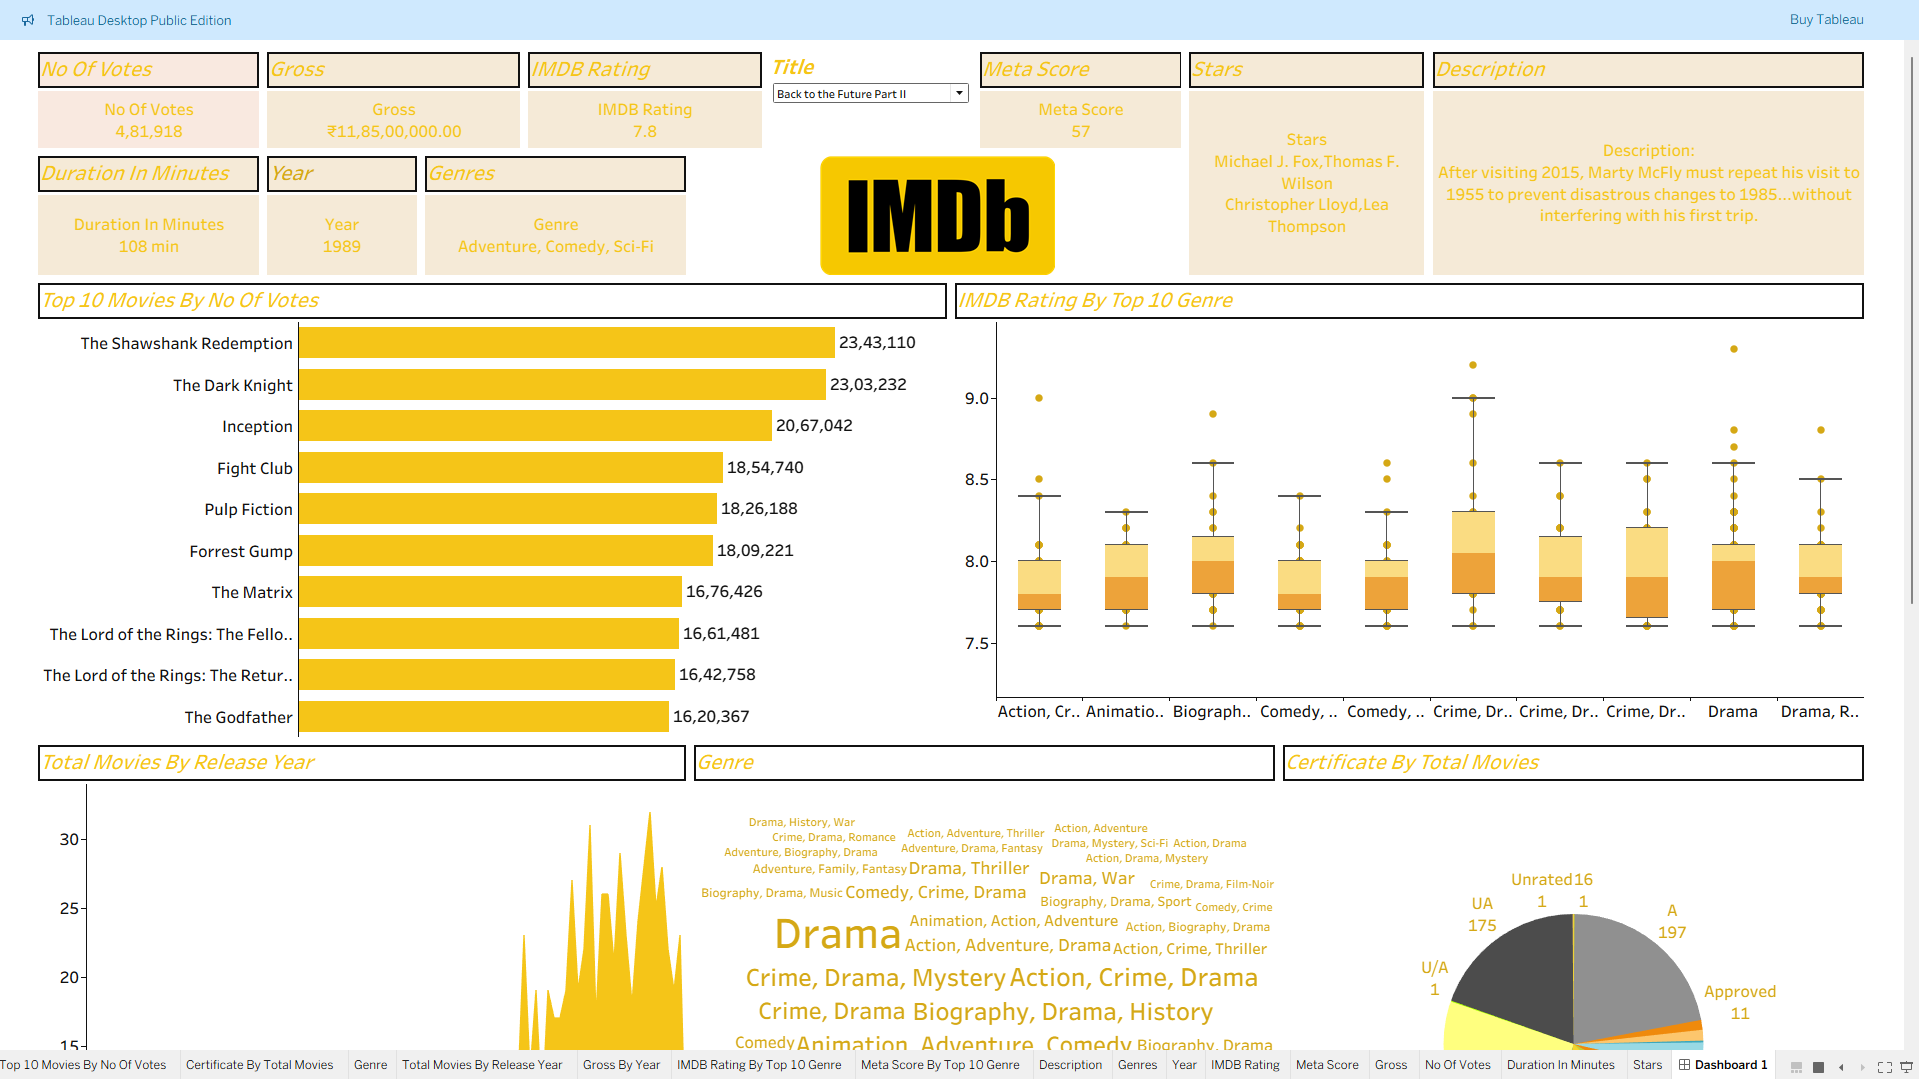

This screenshot's page, from the dashboard's own definition file:
{"tool":"tableau","page":{"name":"Dashboard 1","canvas":[1850,1800],"ordinal":0},"visuals":[{"type":"worksheet","title":"No Of Votes","mark":"Text","box":[8,8,229.2,104]},{"type":"worksheet","title":"Gross ","mark":"Text","box":[237.2,8,260.8,104]},{"type":"worksheet","title":"IMDB Rating","mark":"Text","box":[498,8,242,104]},{"type":"filter","title":"Description","param":"[federated.01yjoc115v95gh0ziov50025qm2x].[none:Series_Title:nk]","box":[740,8,209.7,104]},{"type":"worksheet","title":"Meta Score","mark":"Text","box":[949.7,8,209.7,104]},{"type":"worksheet","title":"Stars","mark":"Text","box":[1159.5,8,243.2,231]},{"type":"worksheet","title":"Description","mark":"Text","box":[1402.7,8,439.3,231]},{"type":"worksheet","title":"Duration In Minutes","mark":"Text","box":[8,112,229.2,127]},{"type":"worksheet","title":"Year","mark":"Text","box":[237.2,112,157.8,127]},{"type":"worksheet","title":"Genres","mark":"Text","box":[395,112,269,127]},{"type":"image","param":"Image/IMDB_Logo_2016.svg.png","box":[664,112,495.4,127]},{"type":"worksheet","title":"Top 10 Movies By No Of Votes","mark":"Automatic","rows":["Series_Title"],"cols":["No_of_Votes"],"box":[8,239,917,461.6]},{"type":"worksheet","title":"IMDB Rating By Top 10 Genre","mark":"Circle","rows":["IMDB_Rating"],"cols":["Genre"],"box":[925,239,917,461.6]},{"type":"worksheet","title":"Total Movies By Release Year","mark":"Area","rows":["Series_Title"],"cols":["Released_Year"],"box":[8,700.6,656,566.5]},{"type":"worksheet","title":"Genre","mark":"Text","box":[664,700.6,589,566.5]},{"type":"worksheet","title":"Certificate By Total Movies","mark":"Pie","box":[1253,700.6,589,566.5]},{"type":"worksheet","title":"Gross By Year","mark":"Circle","box":[8,1267.2,917,524.8]},{"type":"worksheet","title":"Meta Score By Top 10 Genre","mark":"Circle","rows":["Meta_score"],"cols":["Genre"],"box":[925,1267.2,917,524.8]}]}

Visuals, with their boxes on the page's 1850x1800 design canvas (x1, y1, x2, y2). These are canvas units, not pixel positions in the 1919x1079 screenshot, which may show the page scaled, cropped or inside an application window:
"No Of Votes" worksheet (Text marks): l=8, t=8, r=237, b=112
"Gross " worksheet (Text marks): l=237, t=8, r=498, b=112
"IMDB Rating" worksheet (Text marks): l=498, t=8, r=740, b=112
"Description" filter: l=740, t=8, r=950, b=112
"Meta Score" worksheet (Text marks): l=950, t=8, r=1159, b=112
"Stars" worksheet (Text marks): l=1160, t=8, r=1403, b=239
"Description" worksheet (Text marks): l=1403, t=8, r=1842, b=239
"Duration In Minutes" worksheet (Text marks): l=8, t=112, r=237, b=239
"Year" worksheet (Text marks): l=237, t=112, r=395, b=239
"Genres" worksheet (Text marks): l=395, t=112, r=664, b=239
image: l=664, t=112, r=1159, b=239
"Top 10 Movies By No Of Votes" worksheet: l=8, t=239, r=925, b=701
"IMDB Rating By Top 10 Genre" worksheet (Circle marks): l=925, t=239, r=1842, b=701
"Total Movies By Release Year" worksheet (Area marks): l=8, t=701, r=664, b=1267
"Genre" worksheet (Text marks): l=664, t=701, r=1253, b=1267
"Certificate By Total Movies" worksheet (Pie marks): l=1253, t=701, r=1842, b=1267
"Gross By Year" worksheet (Circle marks): l=8, t=1267, r=925, b=1792
"Meta Score By Top 10 Genre" worksheet (Circle marks): l=925, t=1267, r=1842, b=1792
